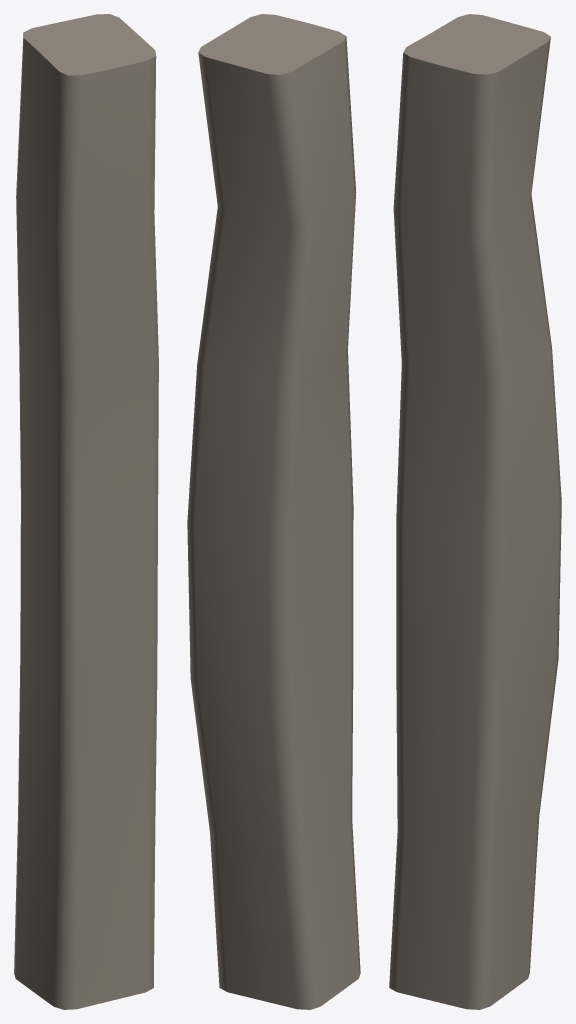
Rendered from MSH_Building_Pillar_Lrg_001.glb.
3 views of the same model, side by side, from view 1: azimuth 30°, elevation 25°; view 2: azimuth 150°, elevation 25°; view 3: azimuth 330°, elevation 25° (orthographic).
Parts seen in each view (by area): view 1: MSH_Building_Pillar_Lrg_001; view 2: MSH_Building_Pillar_Lrg_001; view 3: MSH_Building_Pillar_Lrg_001.
Part boxes in pixels (bbox=[...]): MSH_Building_Pillar_Lrg_001: bbox=[14, 14, 158, 1009]; MSH_Building_Pillar_Lrg_001: bbox=[187, 14, 360, 1009]; MSH_Building_Pillar_Lrg_001: bbox=[389, 14, 561, 1009].
Size of the model in its own units: 0.7951 by 6 by 0.7783.
